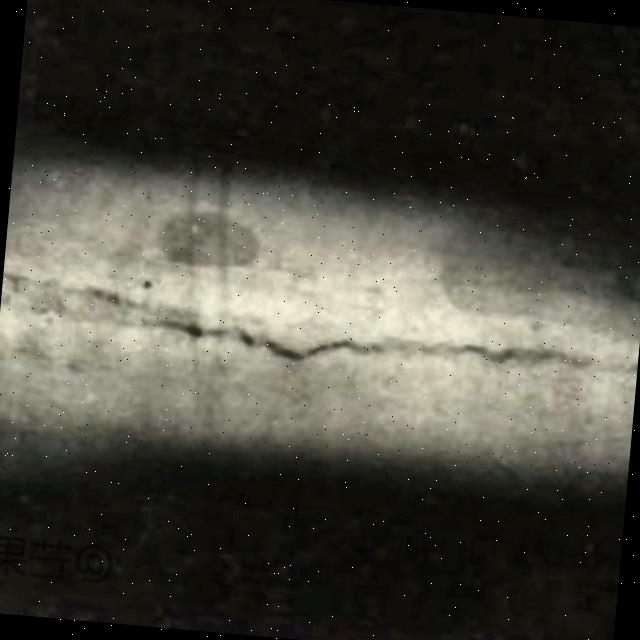Crack: (0, 256, 638, 417)
